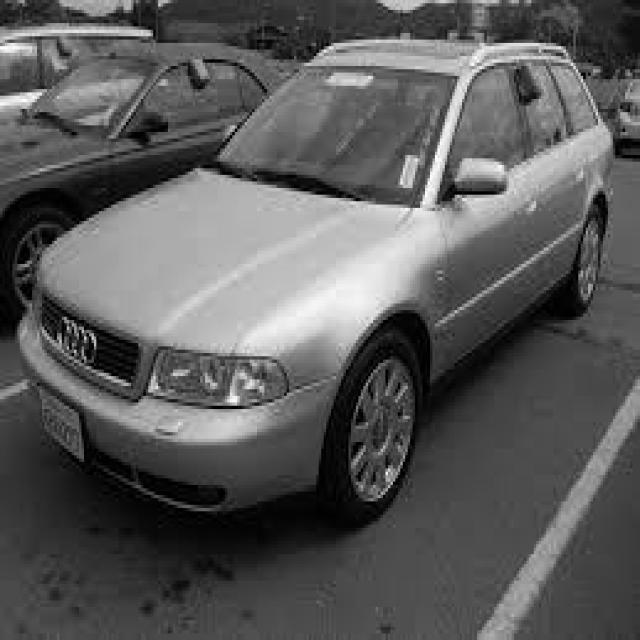car: (15, 36, 615, 528), (0, 40, 294, 326), (613, 76, 637, 155)
